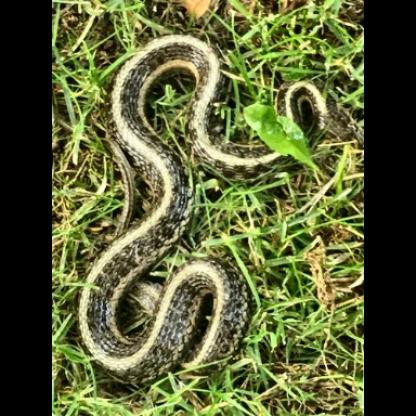Snake: (58, 32, 347, 388)
